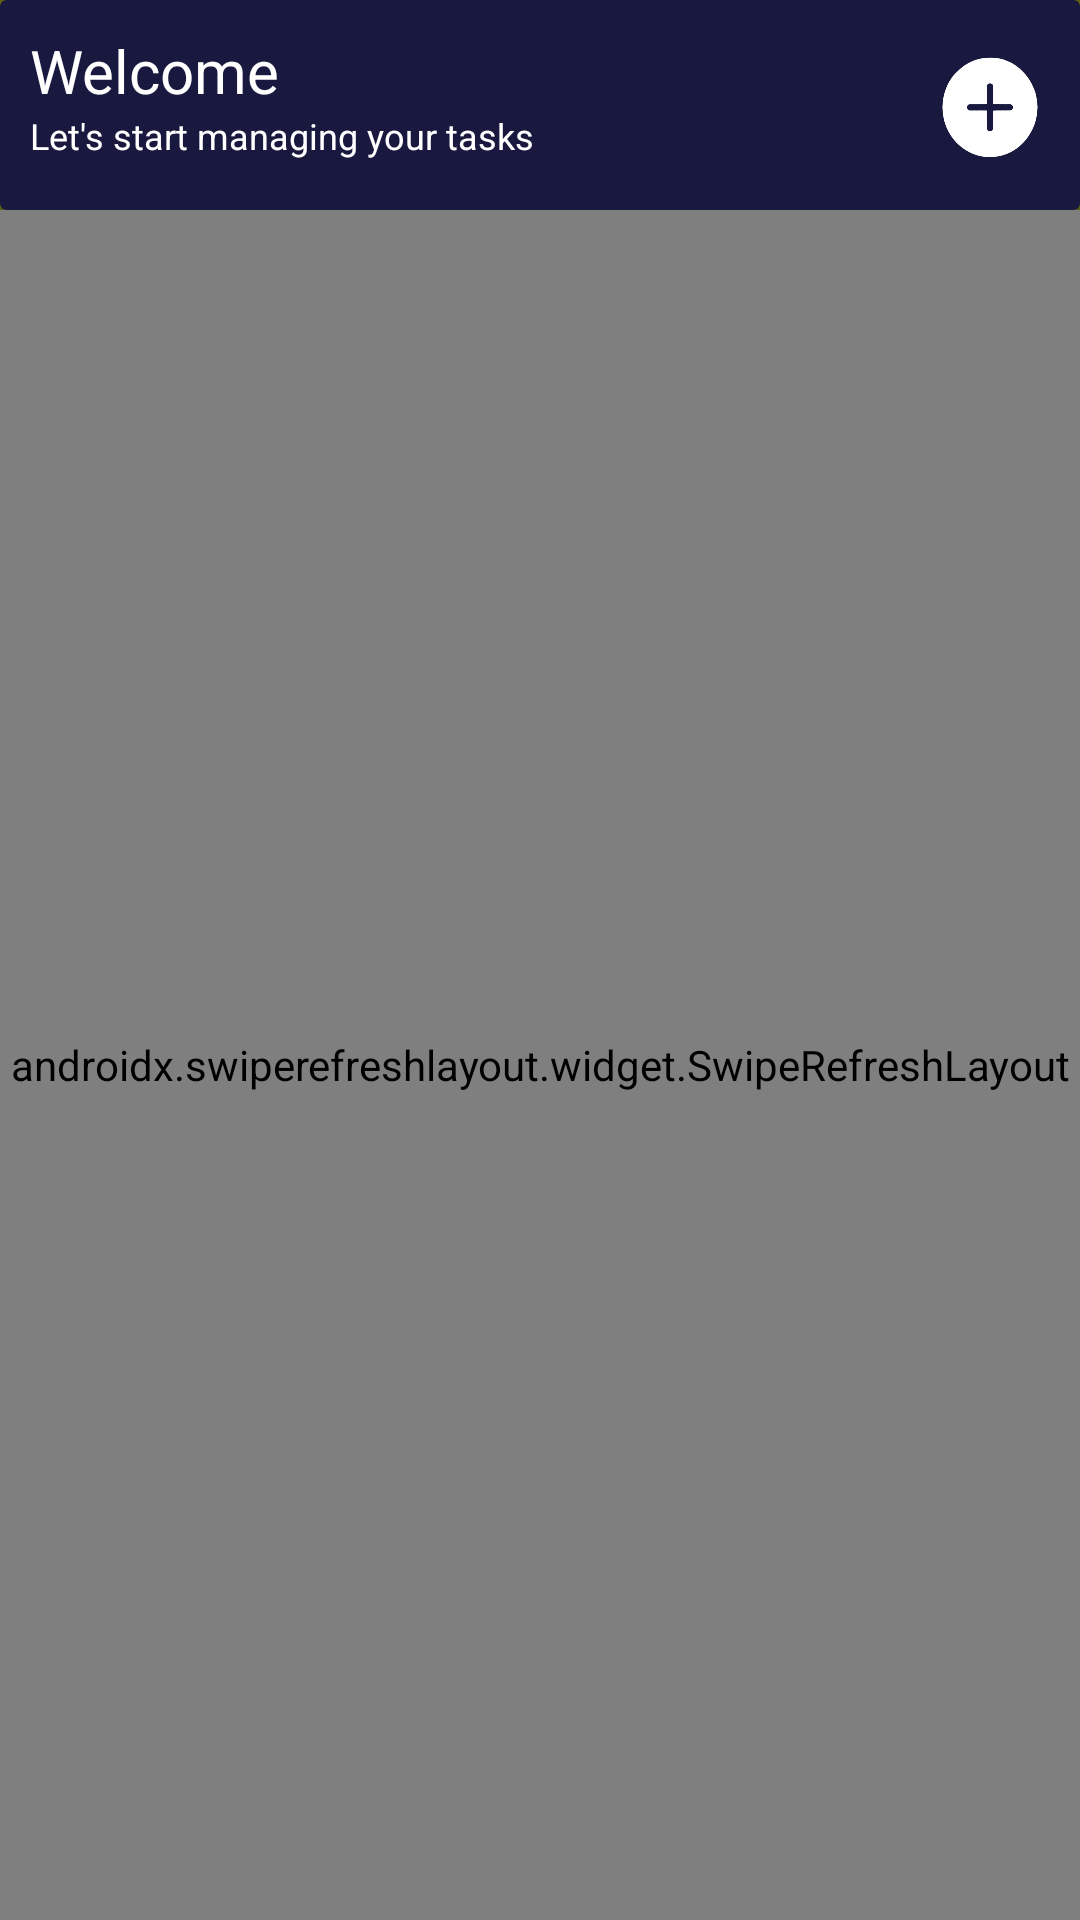

Icon bounding boxes for this 1080 × 1920 phone screenshot, format (x1, y1, x2, y2):
add: (942, 57, 1038, 157)
